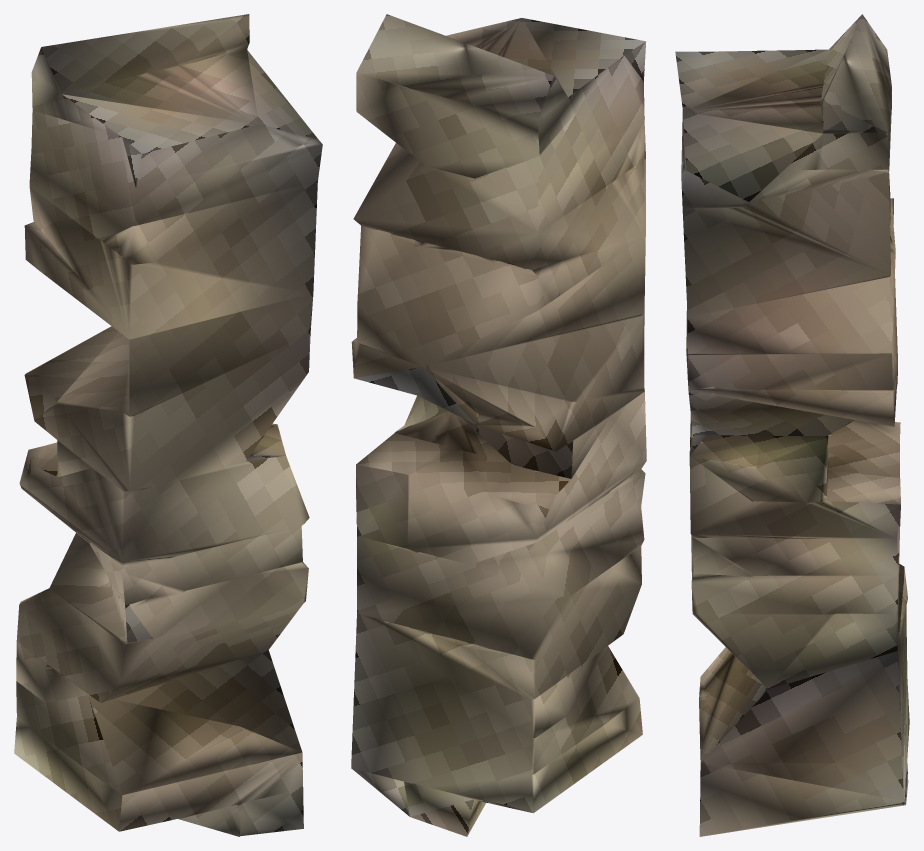
Rendered from 2_of_Jenga_Classic_Game-low.glb.
The picture shows the model from 3 angles, left to right: view 1: azimuth 30°, elevation 25°; view 2: azimuth 150°, elevation 25°; view 3: azimuth 270°, elevation 25°; orthographic projection. The views are drawn at different scales.
Visible parts, largest first — view 1: 2_of_Jenga_Classic_Game; view 2: 2_of_Jenga_Classic_Game; view 3: 2_of_Jenga_Classic_Game.
Part boxes in pixels (x1,y1,x2,y2): 2_of_Jenga_Classic_Game: (14, 14, 322, 836); 2_of_Jenga_Classic_Game: (351, 14, 646, 836); 2_of_Jenga_Classic_Game: (675, 14, 909, 836).
Size of the model in its own units: 0.0776 by 0.2908 by 0.0834.
Materials: 1 (1 with a texture image).
